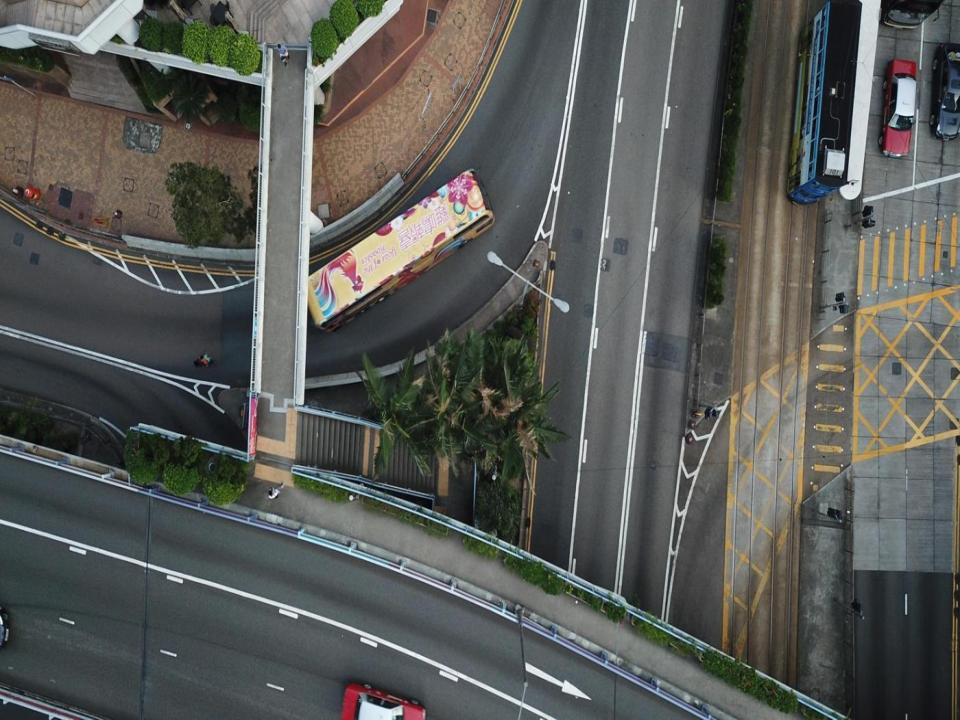bus: (305, 168, 493, 332), (786, 0, 862, 206)
car: (879, 57, 918, 160), (342, 681, 426, 719), (930, 43, 958, 142)
